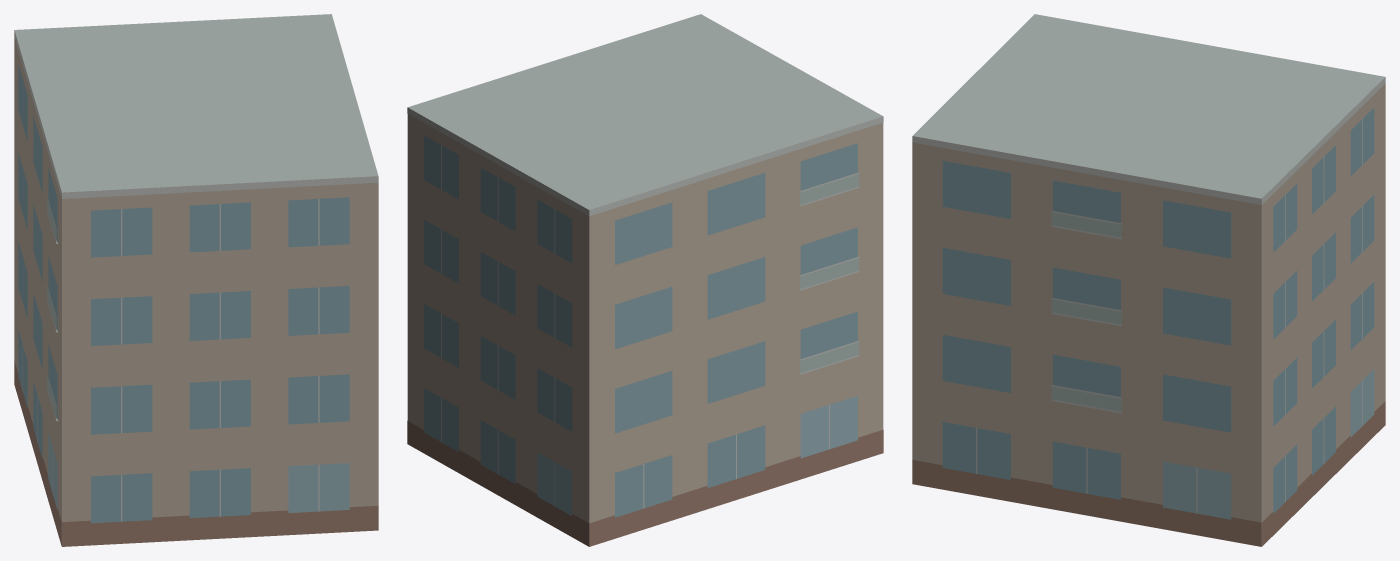
Rendered from survey-upis-32566006.glb.
3 renders of one model, left to right at view 1: azimuth 30°, elevation 25°; view 2: azimuth 150°, elevation 25°; view 3: azimuth 270°, elevation 25°, orthographic. The views are drawn at different scales.
Parts seen in each view (by area): view 1: survey-upis-32566006.tmp; view 2: survey-upis-32566006.tmp; view 3: survey-upis-32566006.tmp.
Boxes of the visible parts, x1,y1,x2,y2 form: survey-upis-32566006.tmp: (14, 14, 378, 546); survey-upis-32566006.tmp: (407, 14, 883, 546); survey-upis-32566006.tmp: (912, 14, 1385, 546).
Size of the model in its own units: 15.09 by 13.25 by 16.33.
